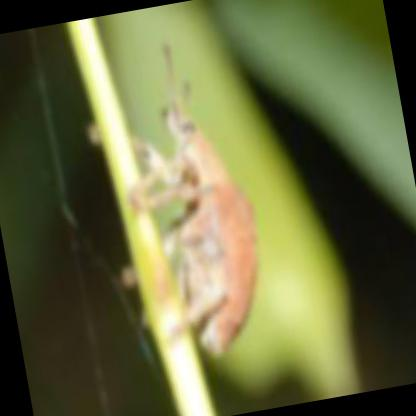ash weevil: (131, 44, 260, 362)
